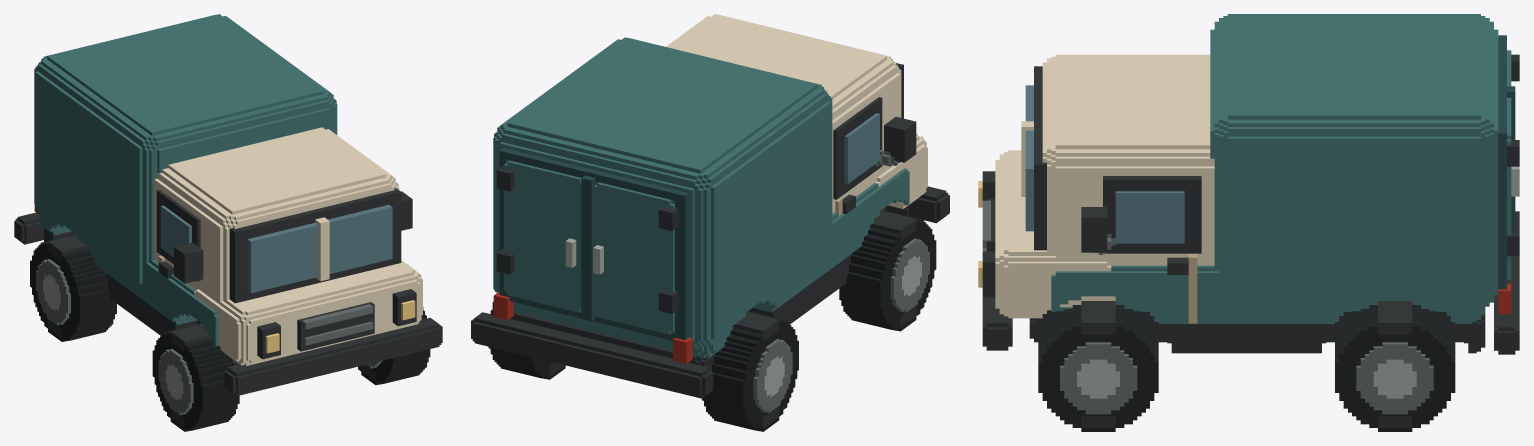
Rendered from delivery_van.glb.
3 renders of one model, left to right at view 1: azimuth 30°, elevation 25°; view 2: azimuth 150°, elevation 25°; view 3: azimuth 270°, elevation 25°, orthographic. The views are drawn at different scales.
Visible parts, largest first — view 1: delivery_van; view 2: delivery_van; view 3: delivery_van.
Part boxes in pixels (bbox=[...]): delivery_van: bbox=[14, 14, 442, 431]; delivery_van: bbox=[471, 14, 949, 431]; delivery_van: bbox=[978, 14, 1519, 431].
Size of the model in its own units: 2.66 by 2.7 by 4.41.
